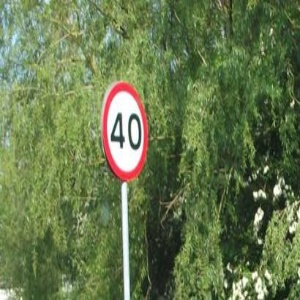40 speed: (102, 82, 149, 181)
